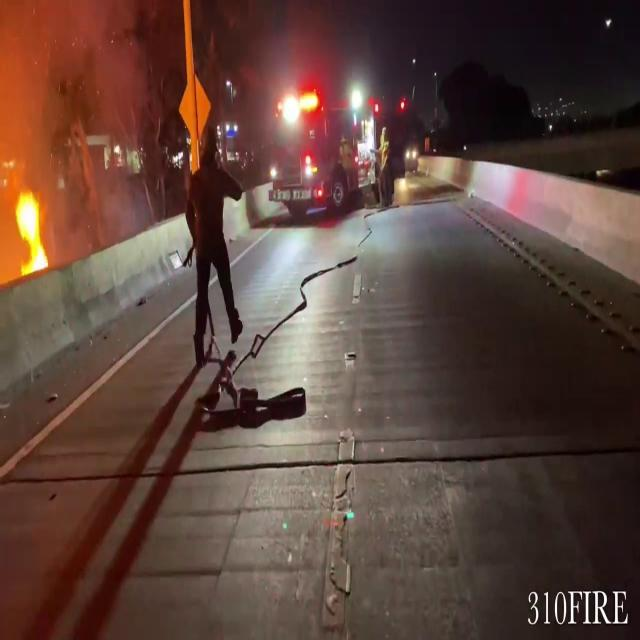Fire: (13, 186, 52, 276)
Smoke: (0, 0, 146, 221)
